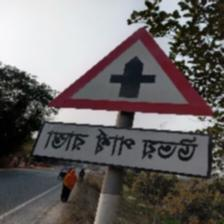Animal: (28, 21, 217, 181)
